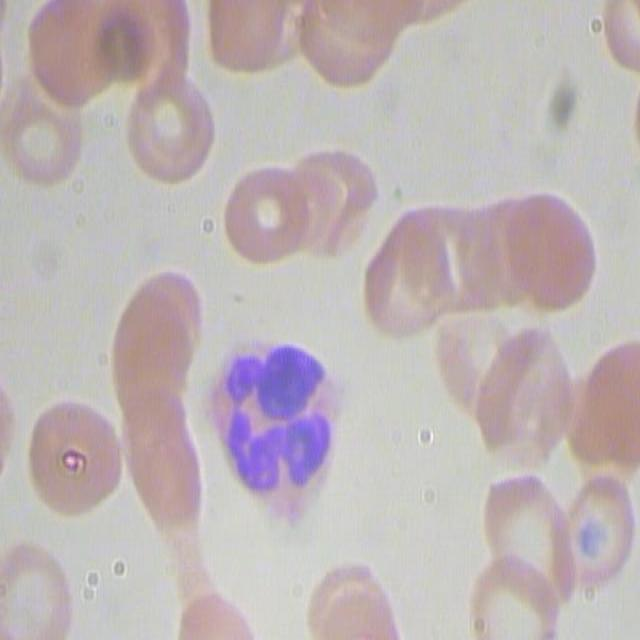RBC: (129, 420, 248, 640), (471, 188, 603, 326), (468, 314, 578, 464), (360, 202, 462, 344), (112, 266, 202, 402), (282, 142, 379, 266), (484, 471, 571, 608), (543, 474, 635, 602), (26, 395, 121, 518), (20, 2, 121, 113), (563, 337, 640, 479), (124, 72, 218, 187), (94, 2, 191, 106), (221, 159, 308, 273), (288, 0, 400, 88), (192, 0, 302, 79), (303, 557, 407, 638), (1, 90, 84, 191), (461, 557, 560, 640), (0, 539, 75, 637), (602, 0, 640, 77)
WBC: (216, 326, 336, 533)
